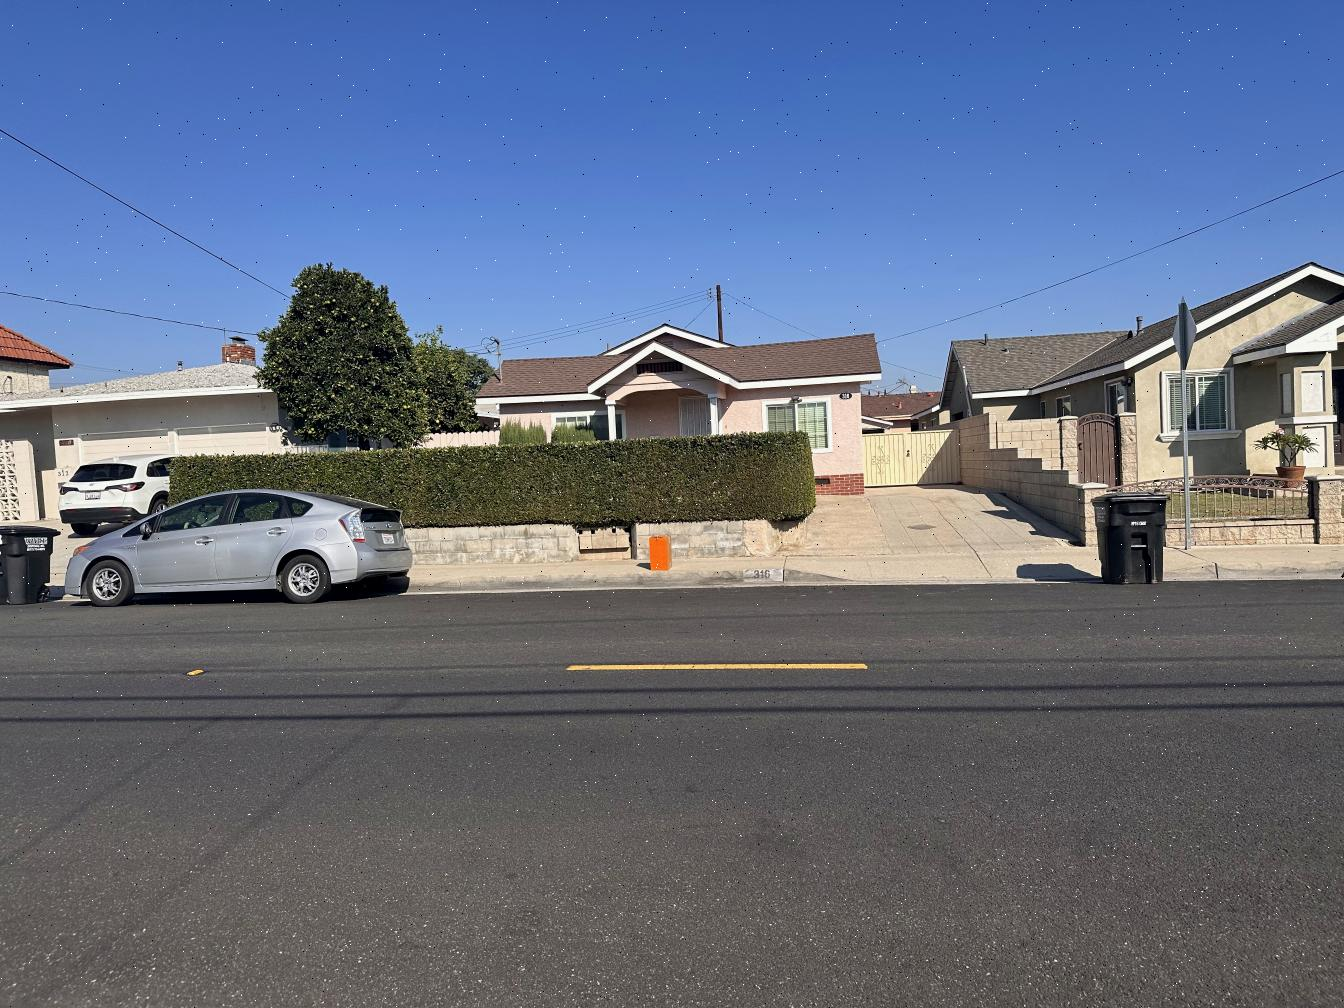curbs-laRr: (423, 576, 664, 593), (670, 568, 795, 586)
orange box: (647, 536, 674, 572)
